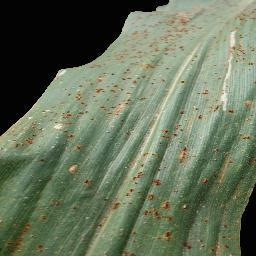Corn_Common_Rust: (111, 81, 256, 256), (110, 0, 254, 80), (48, 64, 89, 256), (0, 96, 47, 256), (89, 45, 111, 256)
